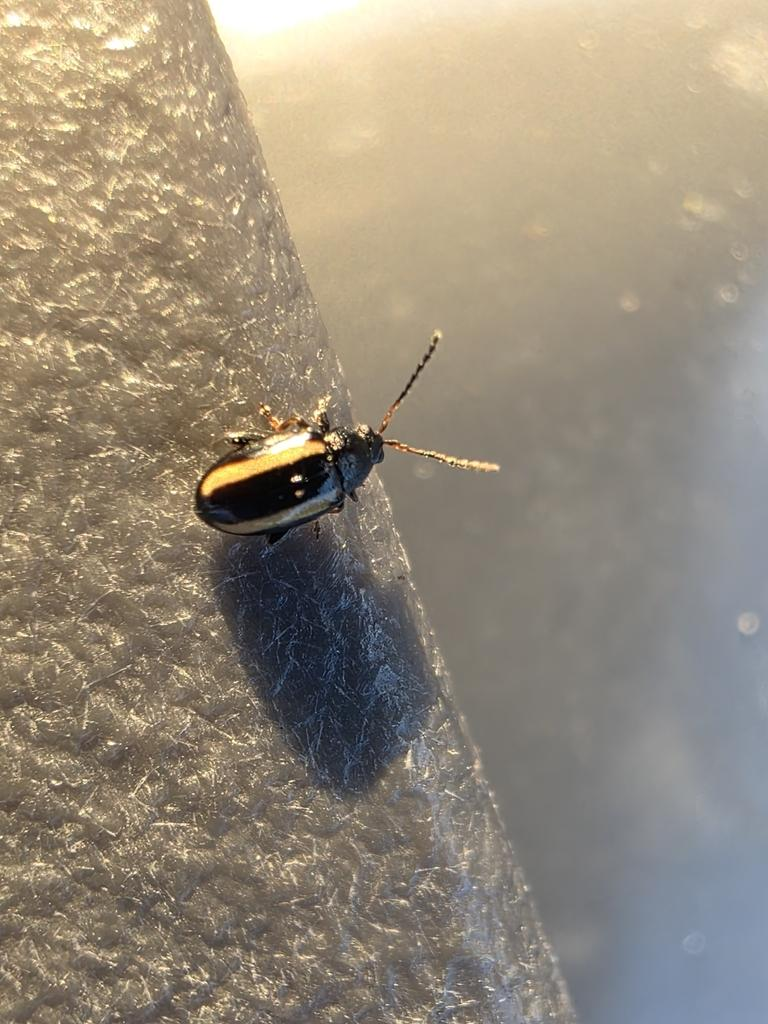flea_beetle: (167, 290, 524, 571)
